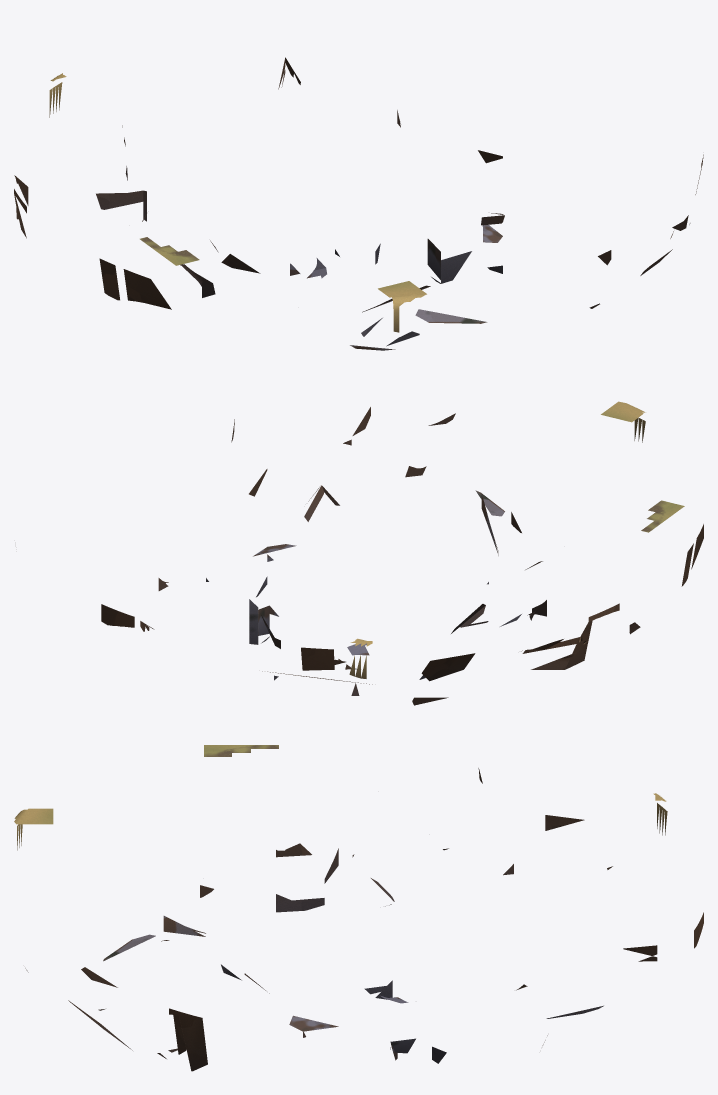
3 renders of one model, top to bottom at view 1: azimuth 30°, elevation 25°; view 2: azimuth 150°, elevation 25°; view 3: azimuth 270°, elevation 25°, orthographic. The views are drawn at different scales.
Visible parts, largest first — view 1: Dirt_-5_-2_0_100, Grass_-2_-5_0_010, Dirt_-3_2_-1_100, Grass_-4_-2_0, Dirt_-5_-2_0_011, Columns_-1_-3_-1_100_000, Columns_1_0_-2_100_000; view 2: Dirt_-3_2_-1_011, Dirt_-5_1_0_111, Dirt_-2_4_0_000, Grass_-2_-5_0_010, Grass_-4_-2_0, Columns_1_0_-2_010, Dirt_1_4_0_010; view 3: Dirt_4_-3_0, Dirt_-3_-1_-1_101, Grass_-2_-5_0_010, Grass_-4_-2_0.
Boxes of the visible parts, x1,y1,x2,y2 form: Dirt_-5_-2_0_100: [123, 269, 171, 309]; Grass_-2_-5_0_010: [378, 281, 426, 332]; Dirt_-3_2_-1_100: [96, 190, 146, 221]; Grass_-4_-2_0: [140, 237, 199, 265]; Dirt_-5_-2_0_011: [99, 258, 119, 300]; Columns_-1_-3_-1_100_000: [415, 309, 487, 323]; Columns_1_0_-2_100_000: [441, 251, 471, 283]; Dirt_-3_2_-1_011: [421, 653, 475, 681]; Dirt_-5_1_0_111: [533, 620, 592, 669]; Dirt_-2_4_0_000: [301, 647, 334, 670]; Grass_-2_-5_0_010: [601, 401, 645, 442]; Grass_-4_-2_0: [641, 500, 684, 532]; Columns_1_0_-2_010: [249, 599, 280, 648]; Dirt_1_4_0_010: [101, 604, 134, 627]; Dirt_4_-3_0: [169, 1008, 207, 1071]; Dirt_-3_-1_-1_101: [276, 843, 324, 912]; Grass_-2_-5_0_010: [14, 808, 53, 850]; Grass_-4_-2_0: [204, 745, 278, 756].
Bounding box in the file's own units: 570 × 162 × 587.
62 materials, 62 textured.
